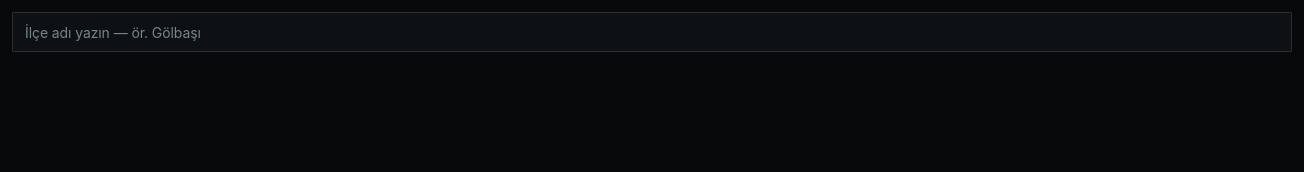
Test case: LocationTypeahead › liste inmezse sessiz kalmıyor
Focus the search field. click: (652, 32)
box: [12,12,1292,52]
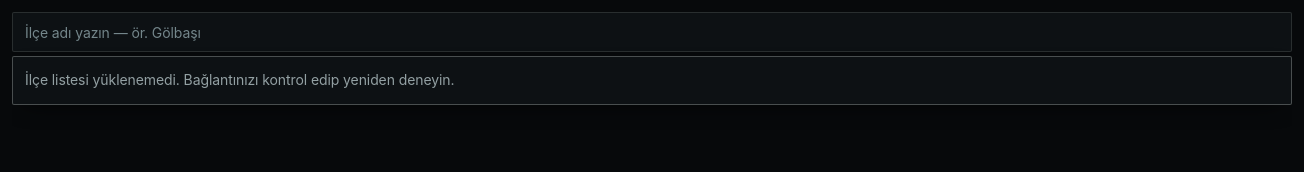
expect the text "yüklenemedi" is shown: met, box [25,71,454,88]
